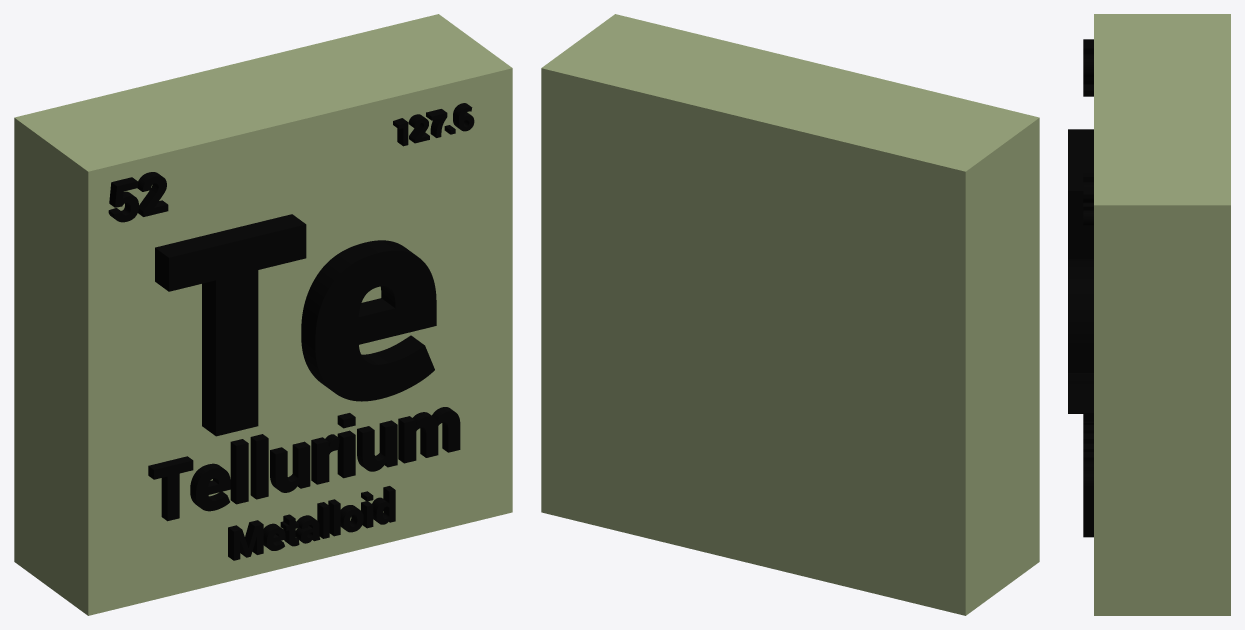
3 views of the same model, side by side, from view 1: azimuth 30°, elevation 25°; view 2: azimuth 150°, elevation 25°; view 3: azimuth 270°, elevation 25° (orthographic). The views are drawn at different scales.
Visible parts, largest first — view 1: Cube, Text, Text.001, Text.002, Text.003, Text.004; view 2: Cube; view 3: Cube, Text, Text.001, Text.003, Text.004, Text.002.
Boxes of the visible parts, box(x1,y1,x2,y2) form: Cube: box(14, 14, 512, 615); Text: box(155, 214, 436, 436); Text.001: box(148, 407, 460, 521); Text.002: box(228, 486, 395, 560); Text.003: box(108, 172, 168, 222); Text.004: box(393, 103, 474, 146); Cube: box(541, 14, 1039, 615); Cube: box(1094, 14, 1230, 615); Text: box(1068, 129, 1093, 413); Text.001: box(1083, 414, 1093, 514); Text.003: box(1083, 39, 1093, 96); Text.004: box(1083, 173, 1093, 225); Text.002: box(1083, 515, 1093, 537).
Bounding box in the file's own units: 178 × 178 × 63.95.
